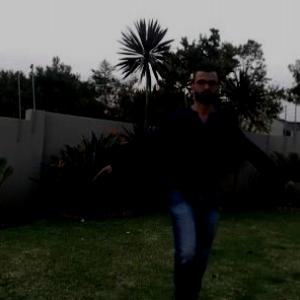land: (121, 88, 252, 250)
